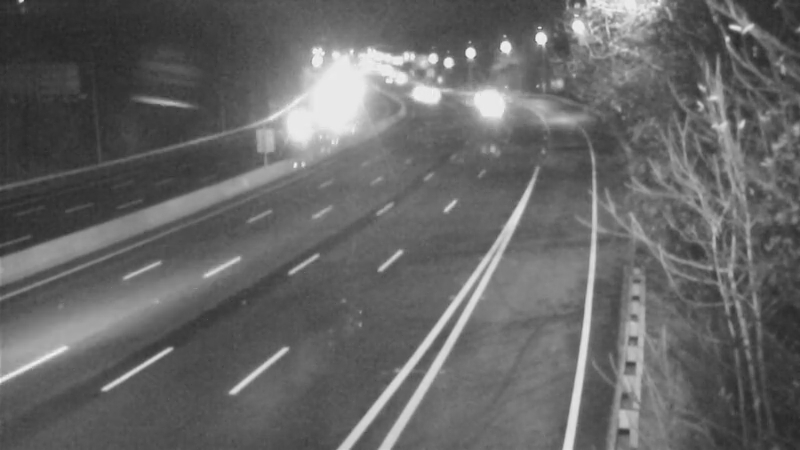vehicle: (390, 64, 440, 114), (401, 72, 451, 122), (452, 72, 502, 122), (465, 82, 515, 132), (279, 97, 329, 147)
